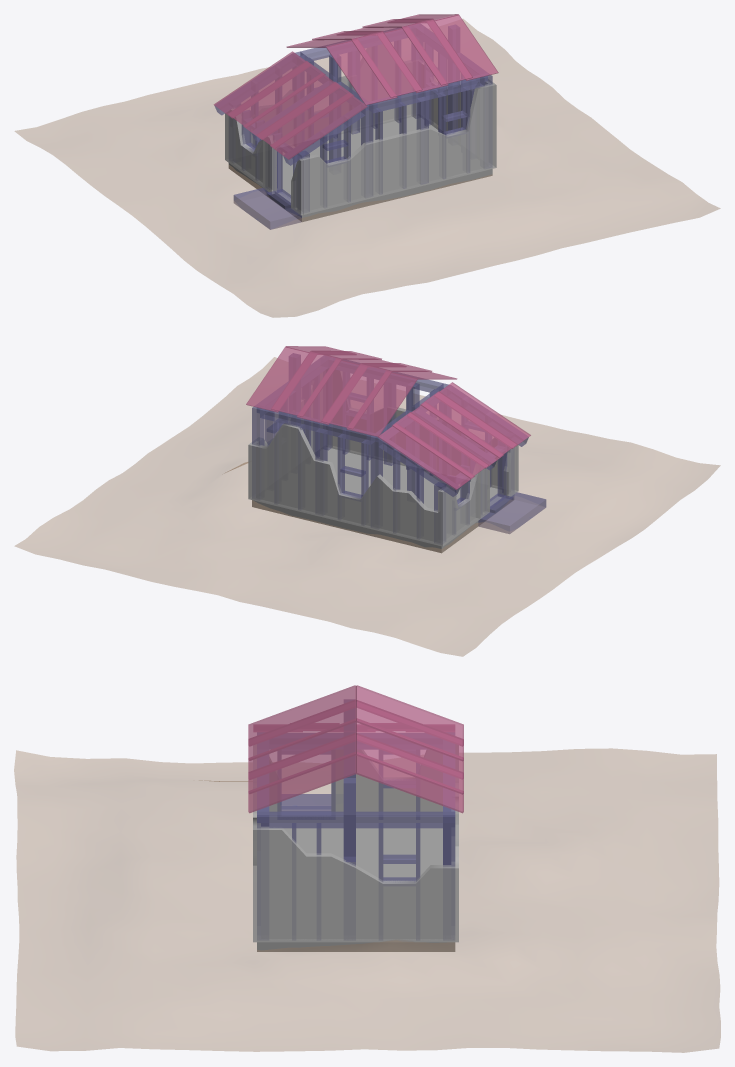
File: house01 (1).fbx
3 renders of one model, top to bottom at view 1: azimuth 30°, elevation 25°; view 2: azimuth 150°, elevation 25°; view 3: azimuth 270°, elevation 25°, orthographic. The views are drawn at different scales.
Parts seen in each view (by area): view 1: pPlane1, pCube124, pCube113, pCube95, pCube96, pCube92, pCube94, pCube93, pCube88, pCube90, pCube87, pCube91 (+16 smaller); view 2: pPlane1, pCube124, pCube102, pCube113, pCube88, pCube90, pCube91, pCube87, pCube89, pCube53, pCube104, pCube111 (+11 smaller); view 3: pPlane1, pCube124, pCube102, pCube113, pCube95, pCube96, pCube94, pCube92, pCube93, pCube58, pCube106, pCube59 (+9 smaller).
Part boxes in pixels (left/top/right/bottom): pPlane1: left=15, top=19, right=720, bottom=317; pCube124: left=225, top=44, right=496, bottom=215; pCube113: left=228, top=115, right=492, bottom=221; pCube95: left=401, top=19, right=472, bottom=85; pCube96: left=351, top=31, right=422, bottom=97; pCube92: left=326, top=40, right=397, bottom=105; pCube94: left=428, top=14, right=498, bottom=80; pCube93: left=377, top=27, right=448, bottom=93; pCube88: left=256, top=81, right=354, bottom=148; pCube90: left=228, top=60, right=325, bottom=127; pCube87: left=270, top=93, right=367, bottom=159; pCube91: left=213, top=51, right=310, bottom=118; pPlane1: left=15, top=357, right=720, bottom=656; pCube124: left=248, top=370, right=518, bottom=546; pCube102: left=246, top=346, right=417, bottom=436; pCube113: left=252, top=447, right=514, bottom=553; pCube88: left=420, top=391, right=517, bottom=457; pCube90: left=392, top=412, right=488, bottom=478; pCube91: left=378, top=423, right=474, bottom=489; pCube87: left=434, top=382, right=530, bottom=448; pCube89: left=407, top=402, right=503, bottom=468; pCube53: left=478, top=492, right=546, bottom=533; pCube104: left=260, top=407, right=374, bottom=444; pCube111: left=378, top=436, right=460, bottom=496; pPlane1: left=14, top=748, right=720, bottom=1052; pCube124: left=253, top=744, right=458, bottom=942; pCube102: left=355, top=685, right=463, bottom=813; pCube113: left=257, top=815, right=455, bottom=951; pCube95: left=248, top=733, right=356, bottom=794; pCube96: left=248, top=699, right=356, bottom=760; pCube94: left=248, top=752, right=356, bottom=813; pCube92: left=248, top=685, right=356, bottom=745; pCube93: left=248, top=719, right=356, bottom=779; pCube58: left=443, top=811, right=455, bottom=939; pCube106: left=356, top=811, right=442, bottom=828; pCube59: left=257, top=811, right=269, bottom=939.
Bounding box in the file's own units: 1425 × 448 × 1425.
